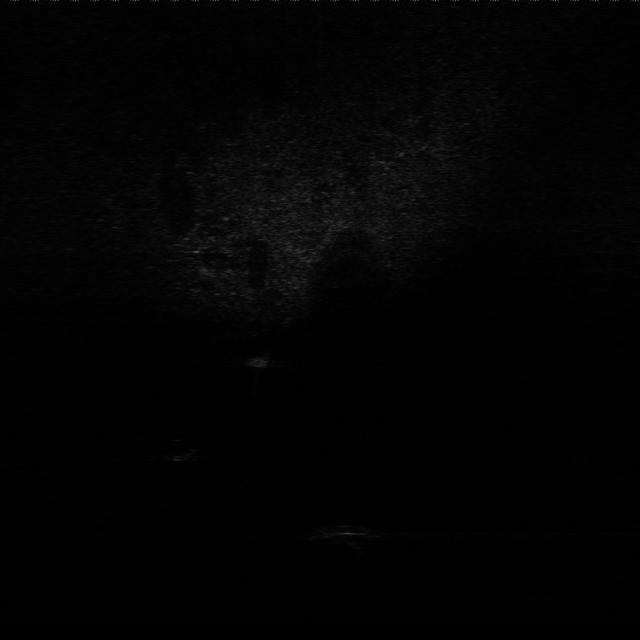ball: (163, 437, 196, 463)
circle cage: (304, 520, 394, 559)
cube: (243, 349, 273, 371)
